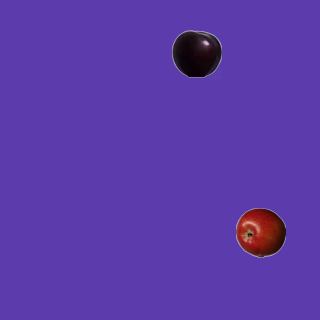Apple Braeburn: (235, 207, 285, 257)
Cherry Wax Black: (171, 28, 221, 78)
